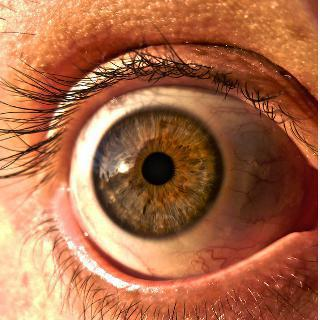iris: (90, 105, 225, 239)
